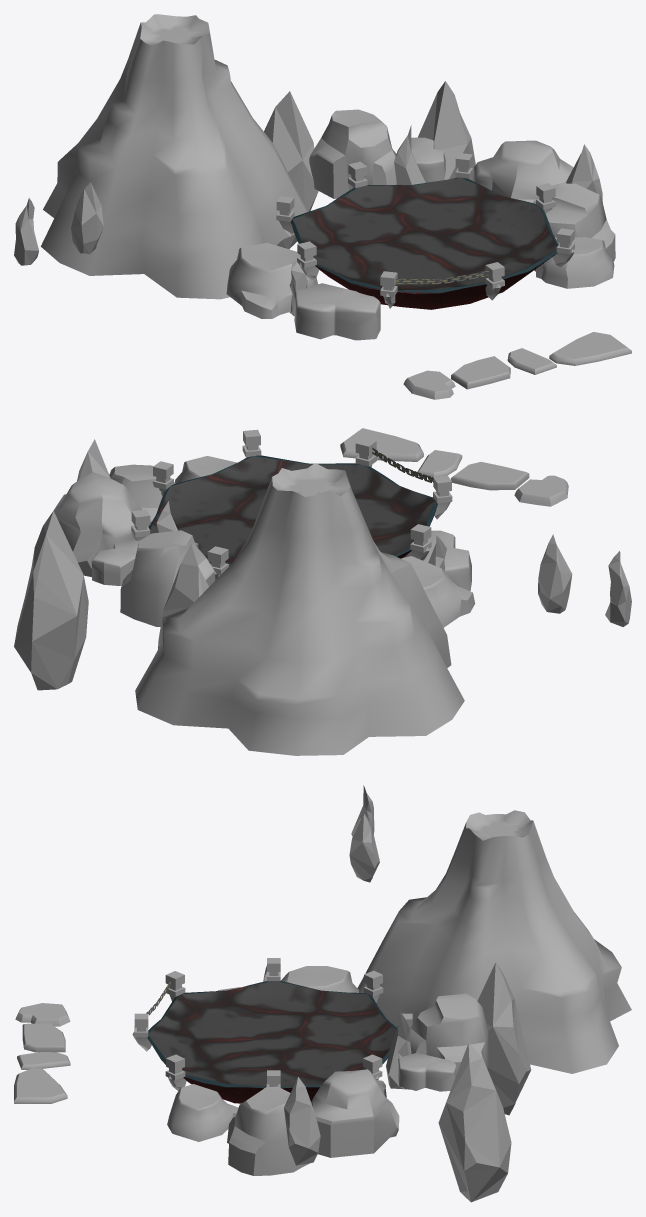
Rendered from LavaENV.fbx.
3 renders of one model, top to bottom at view 1: azimuth 30°, elevation 25°; view 2: azimuth 150°, elevation 25°; view 3: azimuth 270°, elevation 25°, orthographic. The views are drawn at different scales.
Parts seen in each view (by area): view 1: volcano, Bowl, rock1, rock, rock2, rock3, sharp_rock3, rock5, sharp_rock7, rock6, sml_rock, sharp_rock (+12 smaller); view 2: volcano, Bowl, sharp_rock7, rock3, rock1, rock, sharp_rock, sharp_rock3, rock5, sml_rock2, sml_rock, rock4 (+13 smaller); view 3: volcano, Bowl, sharp_rock7, rock3, rock5, sharp_rock3, rock1, rock6, sharp_rock5, rock4, sml_rock, rock (+5 smaller).
Part boxes in pixels (<box>): volcano: <box>41,14,308,299</box>; Bowl: <box>290,177,558,309</box>; rock1: <box>309,109,396,198</box>; rock: <box>226,243,317,318</box>; rock2: <box>294,283,380,340</box>; rock3: <box>472,140,573,203</box>; sharp_rock3: <box>264,91,318,249</box>; rock5: <box>546,183,615,261</box>; sharp_rock7: <box>417,81,475,180</box>; rock6: <box>534,237,614,288</box>; sml_rock: <box>549,332,631,365</box>; sharp_rock: <box>71,182,103,254</box>; volcano: <box>135,463,464,755</box>; Bowl: <box>148,455,437,566</box>; sharp_rock7: <box>14,511,88,690</box>; rock3: <box>53,472,142,576</box>; rock1: <box>120,530,214,626</box>; rock: <box>401,556,475,627</box>; sharp_rock: <box>538,534,572,613</box>; sharp_rock3: <box>158,544,208,648</box>; rock5: <box>109,464,175,526</box>; sml_rock2: <box>451,461,529,490</box>; sml_rock: <box>340,428,423,461</box>; rock4: <box>92,540,139,585</box>; volcano: <box>357,810,631,1073</box>; Bowl: <box>147,981,396,1103</box>; sharp_rock7: <box>438,1043,511,1202</box>; rock3: <box>311,1069,399,1157</box>; rock5: <box>227,1086,309,1175</box>; sharp_rock3: <box>477,962,531,1115</box>; rock1: <box>410,993,488,1073</box>; rock6: <box>167,1084,238,1141</box>; sharp_rock5: <box>284,1077,320,1165</box>; rock4: <box>398,1053,456,1091</box>; sml_rock: <box>14,1068,67,1103</box>; rock: <box>281,966,359,992</box>.
Bounding box in the file's own units: 4.83 × 2.22 × 4.9.
